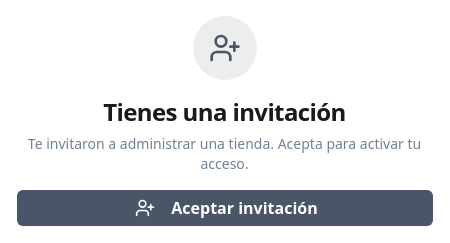
Test case: AcceptMembershipCard (B5) › shows the terminal invalid-link card, with an exit, only on a genuine 'invalid' outcome
Click the button "Aceptar invitación". click: (224, 208)
box: [16,190,432,226]
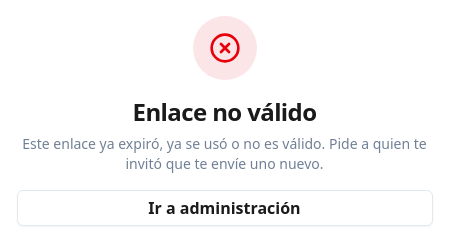
Expected: the heading "Enlace no válido" is shown, [132,95,316,128]
Expected: the link "Ir a administración" is shown, [16,190,432,226]
Expected: the button "Aceptar invitación" is gone
